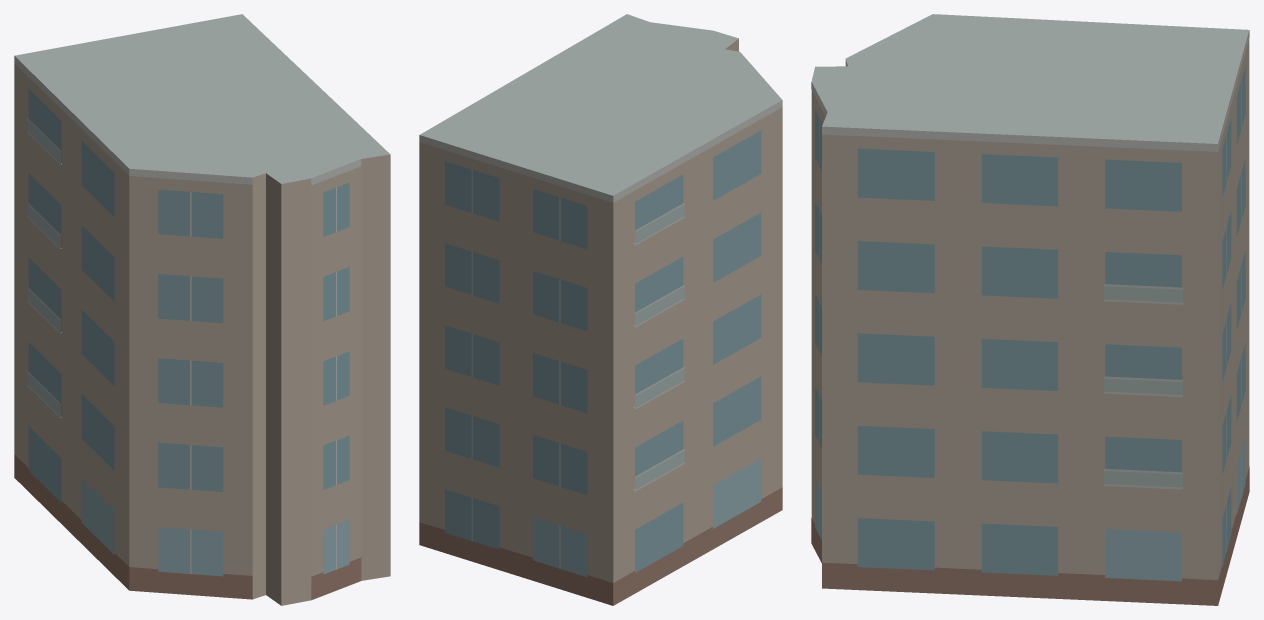
Rendered from survey-upis-33020934.glb.
3 views of the same model, side by side, from view 1: azimuth 30°, elevation 25°; view 2: azimuth 150°, elevation 25°; view 3: azimuth 270°, elevation 25° (orthographic). The views are drawn at different scales.
Parts seen in each view (by area): view 1: survey-upis-33020934.tmp; view 2: survey-upis-33020934.tmp; view 3: survey-upis-33020934.tmp.
Part boxes in pixels (x1,y1,x2,y2): survey-upis-33020934.tmp: [14, 14, 390, 605]; survey-upis-33020934.tmp: [419, 14, 782, 605]; survey-upis-33020934.tmp: [811, 14, 1249, 605].
Size of the model in its own units: 8.64 by 14.3 by 12.3.
